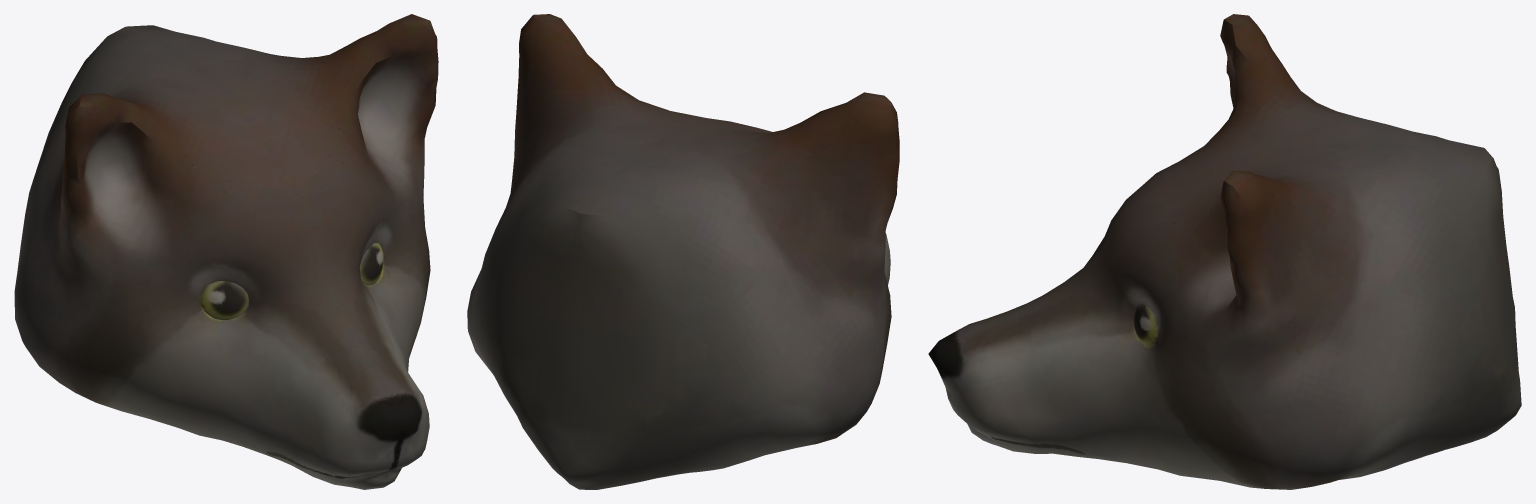
Rendered from kop_wolf.glb.
The picture shows the model from 3 angles, left to right: view 1: azimuth 30°, elevation 25°; view 2: azimuth 150°, elevation 25°; view 3: azimuth 270°, elevation 25°; orthographic projection.
Visible parts, largest first — view 1: Object_2; view 2: Object_2; view 3: Object_2.
Boxes of the visible parts, x1=… form: Object_2: x1=14, y1=14, x2=438, y2=489; Object_2: x1=467, y1=14, x2=899, y2=489; Object_2: x1=928, y1=14, x2=1521, y2=489.
Bounding box in the file's own units: 0.3 × 0.2686 × 0.4087.
Materials: 1 (1 with a texture image).
